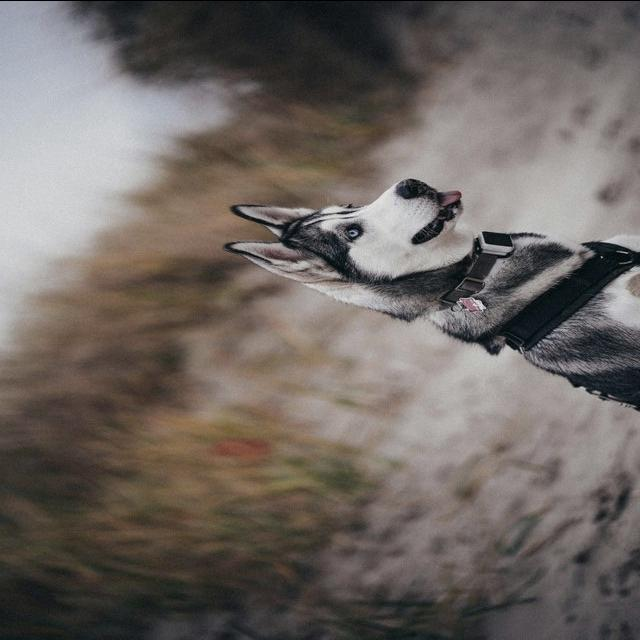husky: (221, 176, 638, 411)
